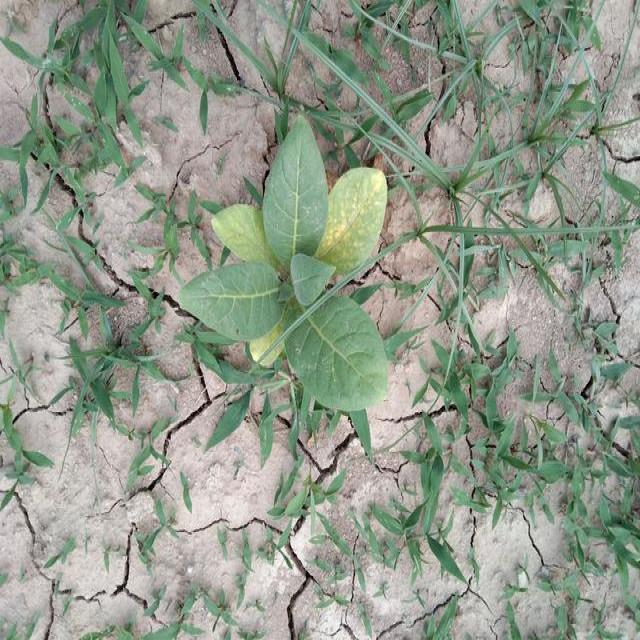crop: (186, 116, 386, 425)
